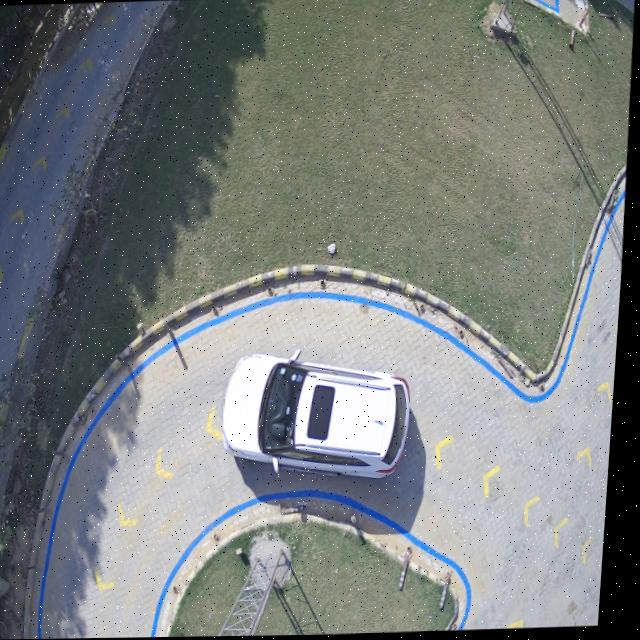car: (227, 354, 416, 478)
